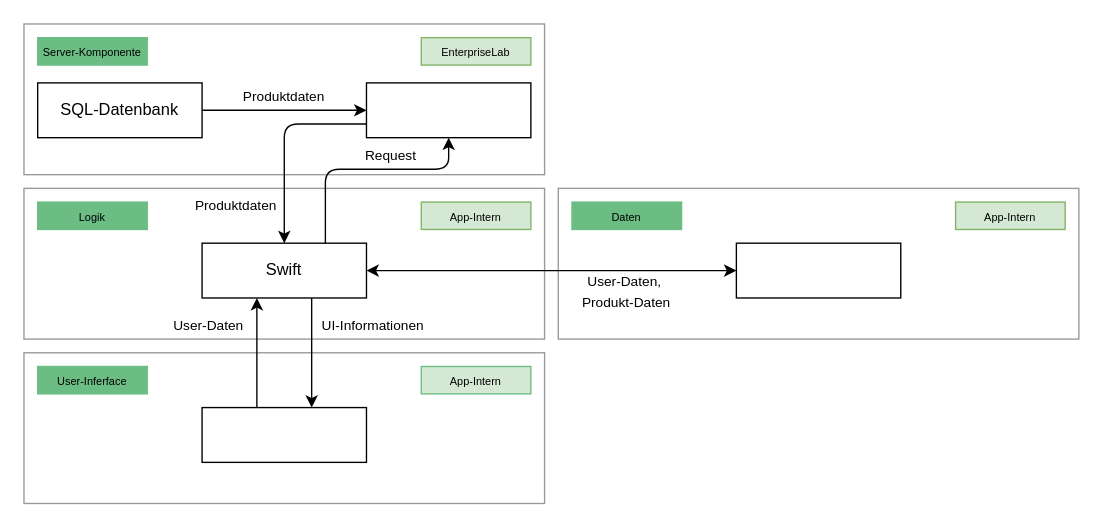
Image size: 1103x527. Some labels were removed from this diagram. The box of each missing label's shape, as (x1, y1, x2, y2) in pixels:
Java: Spring-Framework: (365, 82, 531, 138)
Swift: Core-Data: (735, 242, 901, 298)
Swift: UI-Kit: (201, 406, 366, 462)
